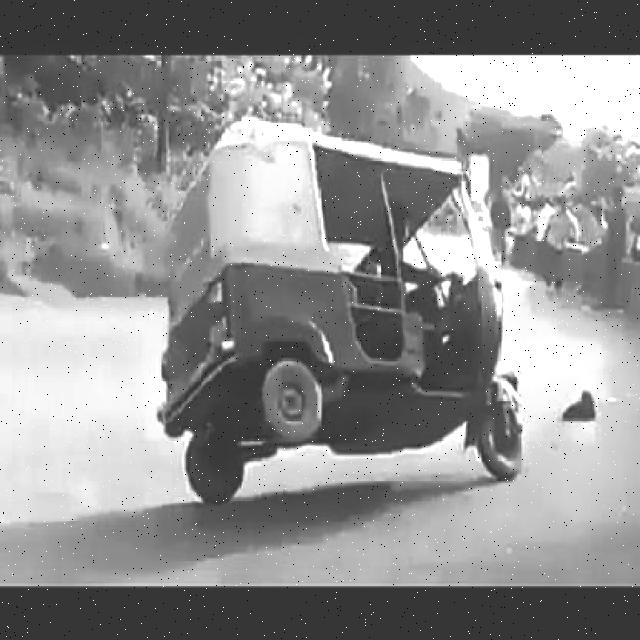Auto-Rickshaw: (149, 112, 524, 500)
